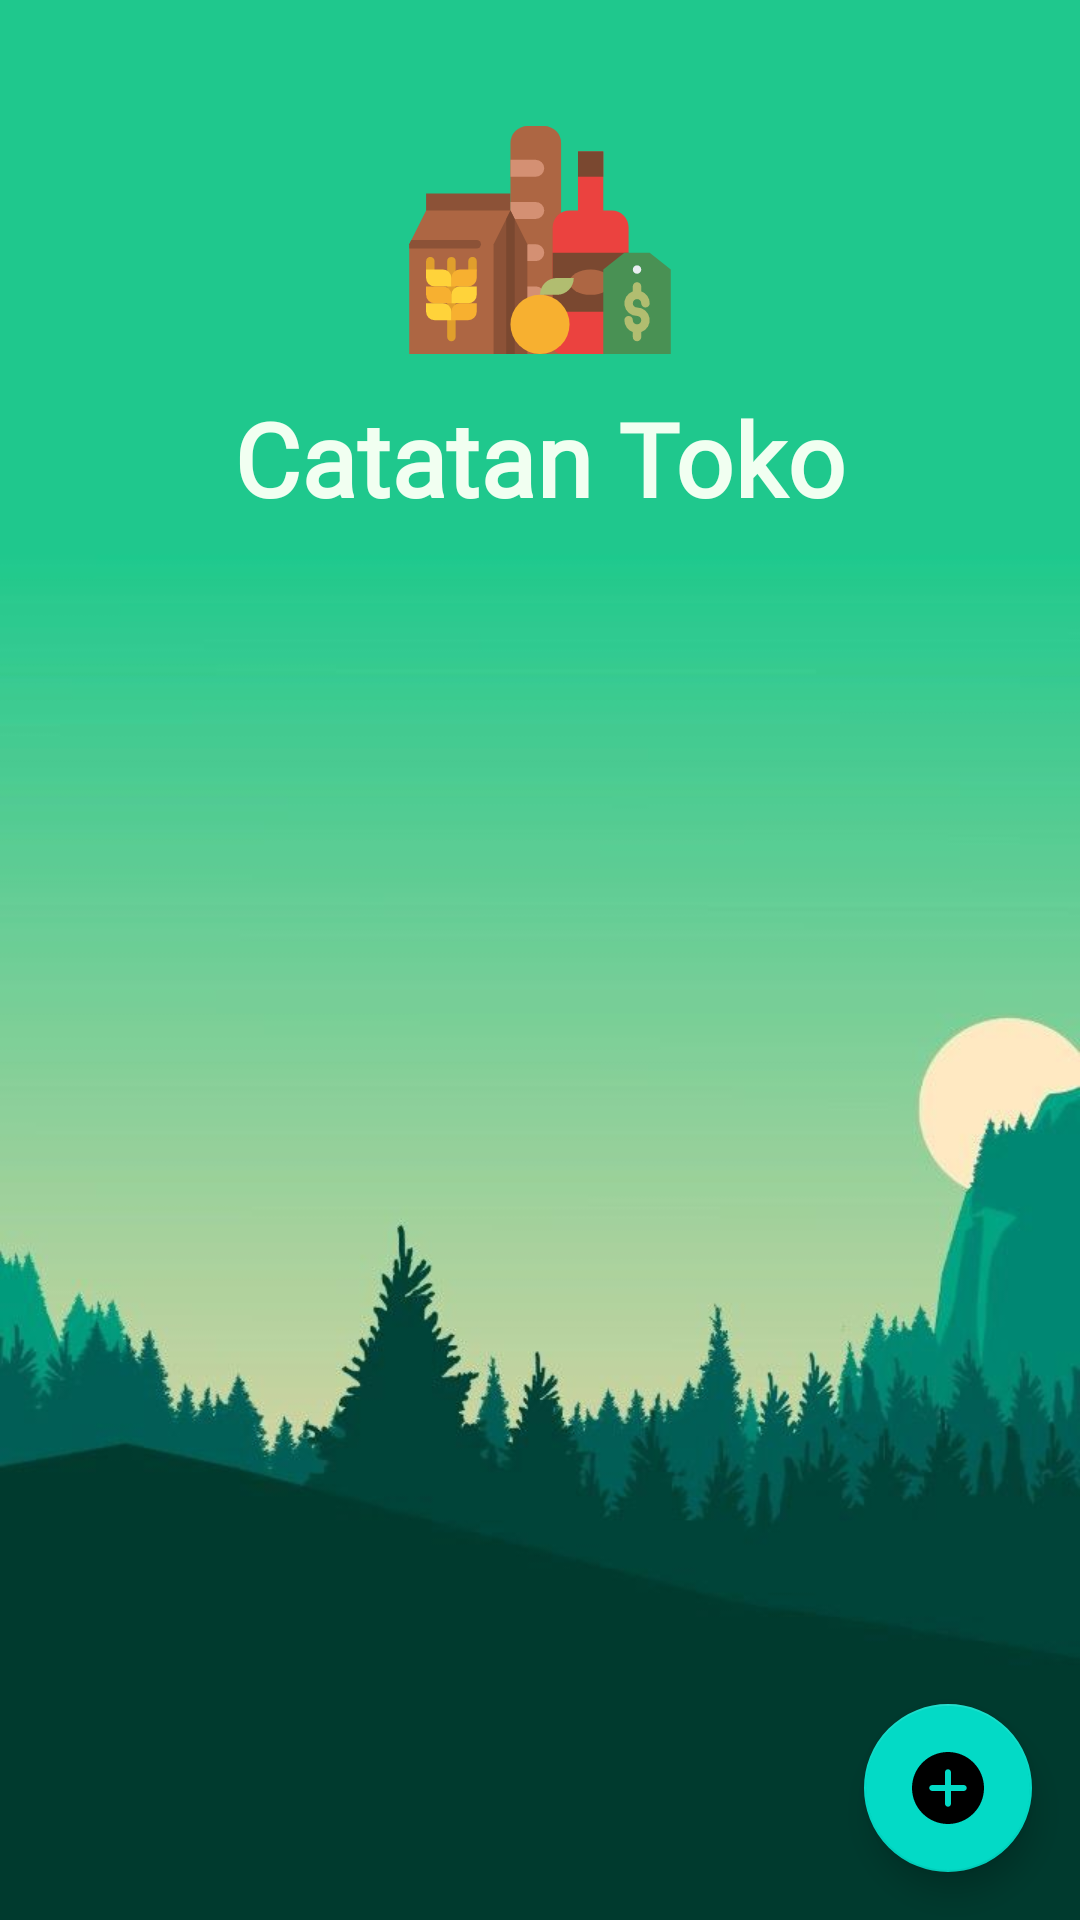

Where icons sit on this 1080w x 1920h app screen, as rect(x1, y1, x2, y2):
food: rect(409, 126, 671, 354)
plus: rect(864, 1704, 1032, 1872)
